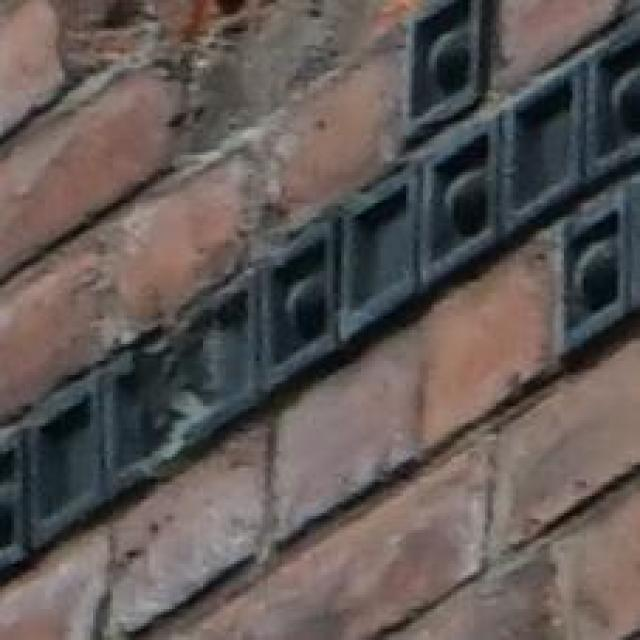Crack: (3, 0, 428, 261)
